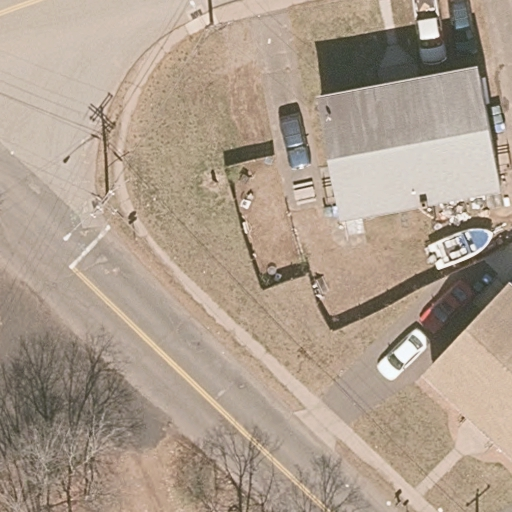DT: (62, 190, 128, 242)
